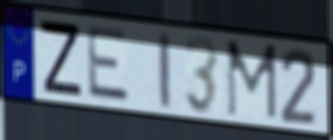2: (278, 45, 319, 128)
3: (182, 34, 224, 117)
E: (85, 24, 132, 105)
I: (156, 29, 173, 111)
M: (225, 38, 279, 123)
Z: (37, 17, 84, 99)
